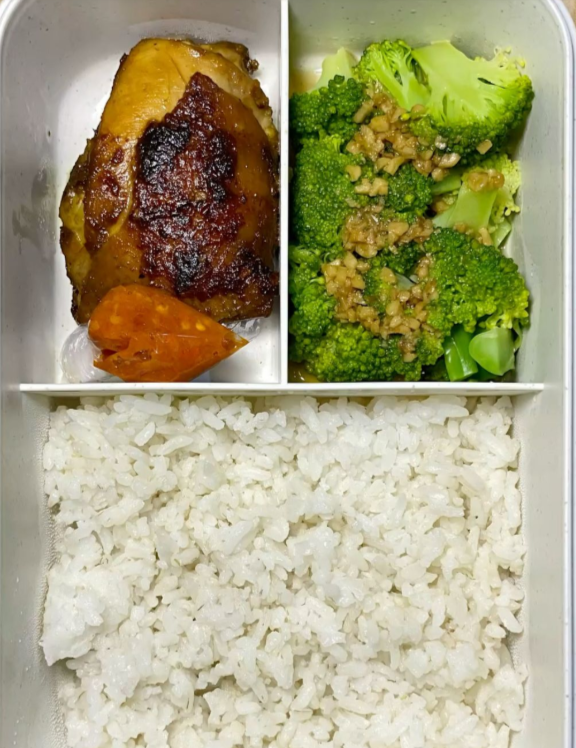buah_sayur_lainnya: (302, 60, 515, 372)
daging: (123, 53, 252, 283)
makanan_berpati: (62, 408, 510, 738)
